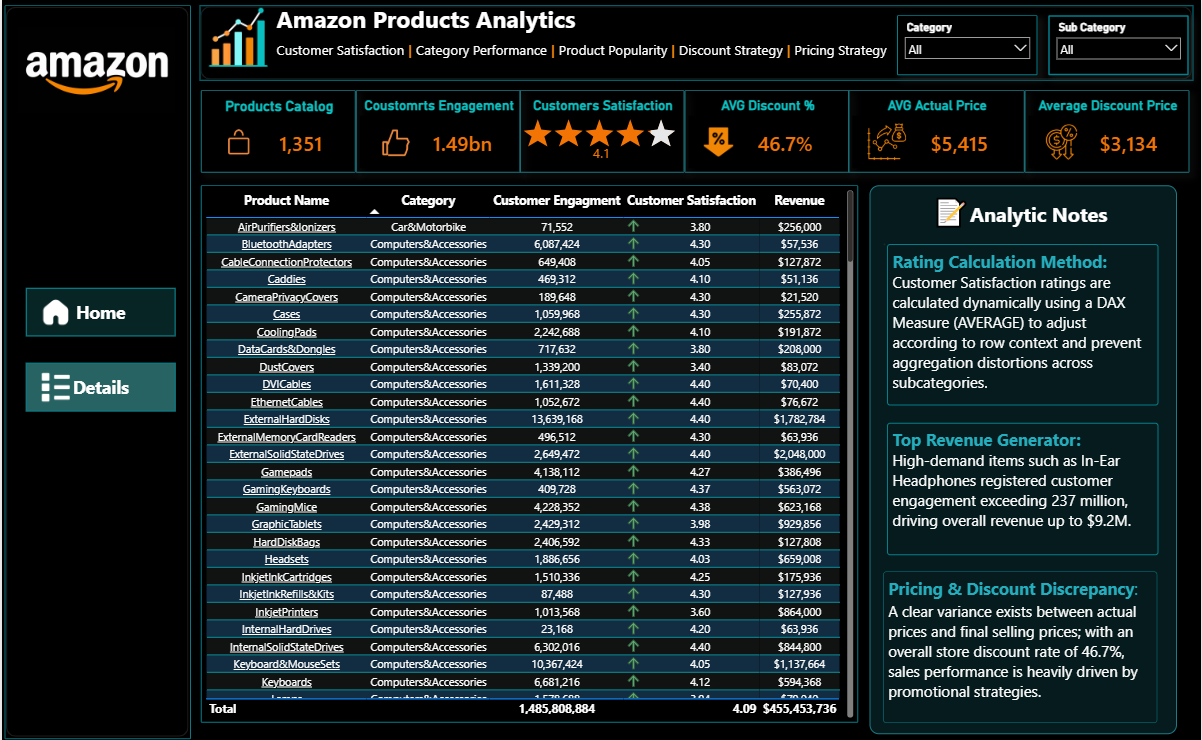

The dashboard page shown, as its layout file describes it:
{"tool":"powerbi","page":{"name":"Details","canvas":[1920,1200],"ordinal":1},"visuals":[{"type":"shape","box":[4,10,298,1174],"z":0},{"type":"image","box":[24,44,254,138],"z":1000},{"type":"shape","box":[316,10,1590.4,121.2],"z":2000},{"type":"textbox","box":[434,2,525,82.7],"z":3000},{"type":"textbox","box":[433.3,62.7,1365.4,82.7],"z":4000},{"type":"cardVisual","title":"Products Catalog","fields":{"Data":["Count(Amazon DataSet.product_id)"]},"box":[318,146,248,132],"z":5000},{"type":"cardVisual","title":"Coustomrts Engagement","fields":{"Data":["Sum(Amazon DataSet.rating_count)"]},"box":[565.2,146,264,132],"z":6000},{"type":"PBI_CV_9053509D_D461_463A_B485_CE9F6AB0F13D","title":"Customers Satisfaction","fields":{"value":["Amazon DataSet.AVG Rating"]},"box":[828.4,146,264,132],"z":7000},{"type":"cardVisual","title":"AVG Discount %","fields":{"Data":["Avg(Amazon DataSet.discount_percentage)"]},"box":[1091.6,146,264,132],"z":8000},{"type":"cardVisual","title":"AVG Actual Price","fields":{"Data":["Avg(Amazon DataSet.Revenue)"]},"box":[1354.8,146,282,132],"z":9000},{"type":"cardVisual","title":"Average Discount Price","fields":{"Data":["Avg(Amazon DataSet.discounted_price.2)"]},"box":[1636,146,264,132],"z":10000},{"type":"image","box":[322,14,111.8,94.1],"z":15000},{"type":"tableEx","title":"Product Count by Disscount Band","fields":{"Values":["Amazon DataSet.ProductName","Amazon DataSet.category.1","Sum(Amazon DataSet.rating_count)","Amazon DataSet.AVG Rating","Sum(Amazon DataSet.Revenue)"]},"box":[318,298,1052,860],"z":17000},{"type":"slicer","fields":{"Values":["Amazon DataSet.category.1"]},"box":[1431.2,25,225,95.8],"z":19000},{"type":"slicer","fields":{"Values":["Amazon DataSet.Subcategory"]},"box":[1674,26,225,95.8],"z":20000},{"type":"actionButton","title":"Home","box":[38,582,240,78],"z":20001},{"type":"actionButton","title":"Home","box":[38,462,240,78],"z":20002},{"type":"textbox","box":[1388,298,492,878],"z":20003},{"type":"textbox","box":[1416,392,434,258],"z":20004},{"type":"textbox","box":[1410,916,438,242],"z":20005},{"type":"textbox","box":[1415,677,434,212],"z":20006},{"type":"image","box":[62,466,48,70],"z":20007},{"type":"image","box":[62,582,48,78],"z":20008}]}

Visuals, with their boxes in screenshot pixels (x1, y1, x2, y2), scaled from the page's 1920x1200 canvas onto the 1202x740 screenshot:
shape: crop(3, 6, 189, 730)
image: crop(15, 27, 174, 112)
shape: crop(198, 6, 1193, 81)
textbox: crop(272, 1, 600, 52)
textbox: crop(271, 39, 1126, 90)
"Products Catalog" cardVisual: crop(199, 90, 354, 171)
"Coustomrts Engagement" cardVisual: crop(354, 90, 519, 171)
"Customers Satisfaction" PBI_CV_9053509D_D461_463A_B485_CE9F6AB0F13D: crop(519, 90, 684, 171)
"AVG Discount %" cardVisual: crop(683, 90, 849, 171)
"AVG Actual Price" cardVisual: crop(848, 90, 1025, 171)
"Average Discount Price" cardVisual: crop(1024, 90, 1189, 171)
image: crop(202, 9, 272, 67)
"Product Count by Disscount Band" tableEx: crop(199, 184, 858, 714)
slicer - Amazon DataSet.category.1: crop(896, 15, 1037, 74)
slicer - Amazon DataSet.Subcategory: crop(1048, 16, 1189, 75)
"Home" actionButton: crop(24, 359, 174, 407)
"Home" actionButton: crop(24, 285, 174, 333)
textbox: crop(869, 184, 1177, 725)
textbox: crop(886, 242, 1158, 401)
textbox: crop(883, 565, 1157, 714)
textbox: crop(886, 417, 1158, 548)
image: crop(39, 287, 69, 331)
image: crop(39, 359, 69, 407)
